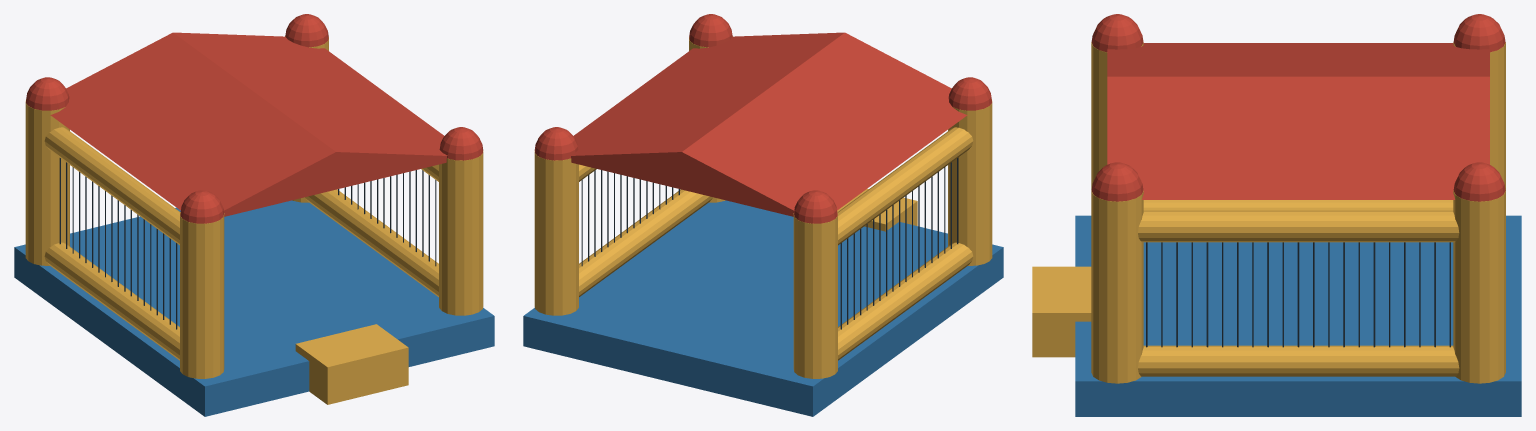
File: scendance-plan-bouncy-castle-roofed.glb
3 views of the same model, side by side, from view 1: azimuth 30°, elevation 25°; view 2: azimuth 150°, elevation 25°; view 3: azimuth 270°, elevation 25° (orthographic). The views are drawn at different scales.
Size of the model in its own units: 4.3 by 3.03 by 5.22.
